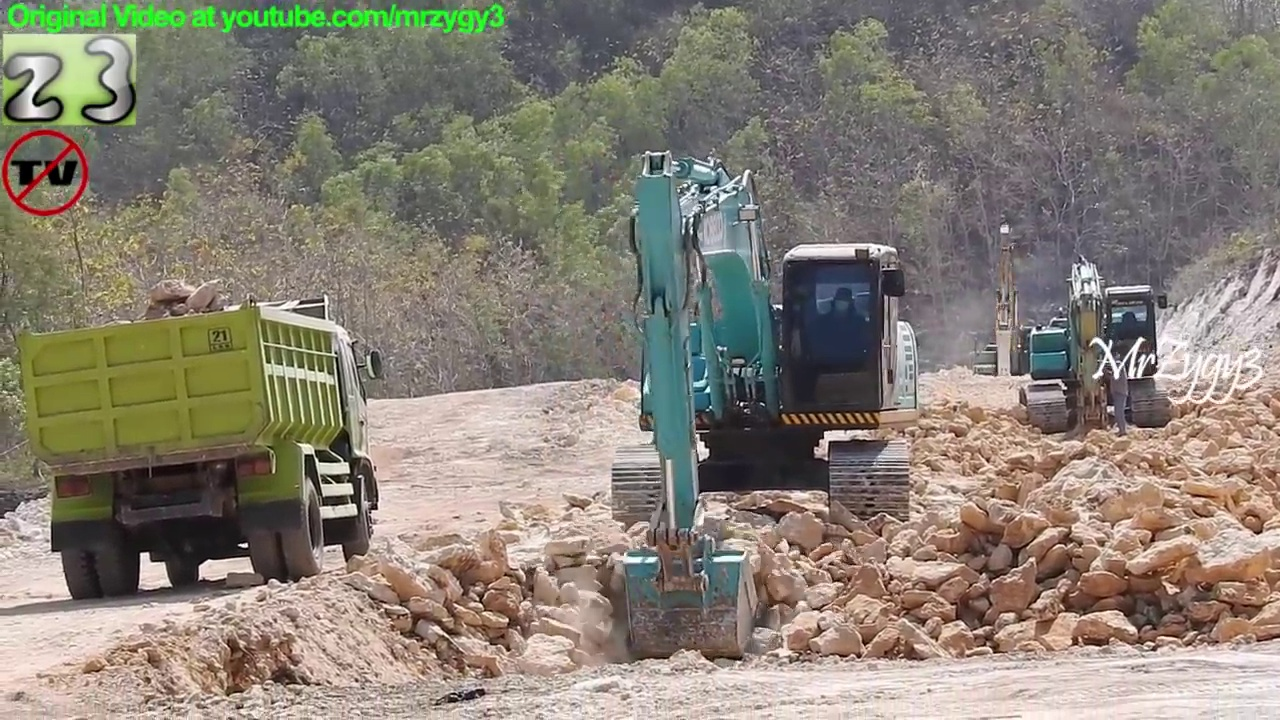excavator: (600, 143, 926, 667), (964, 217, 1055, 393)
excavator breaker: (1010, 243, 1178, 452)
truck: (12, 290, 391, 605)
worker: (1095, 344, 1140, 441)
